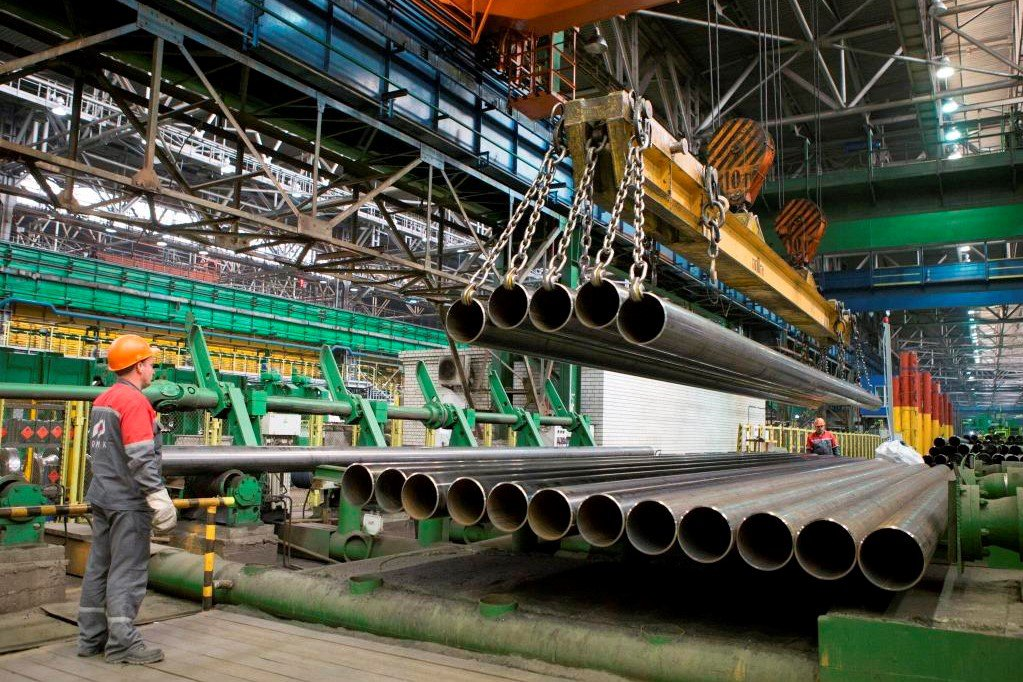person: (76, 334, 178, 664), (805, 418, 841, 459)
